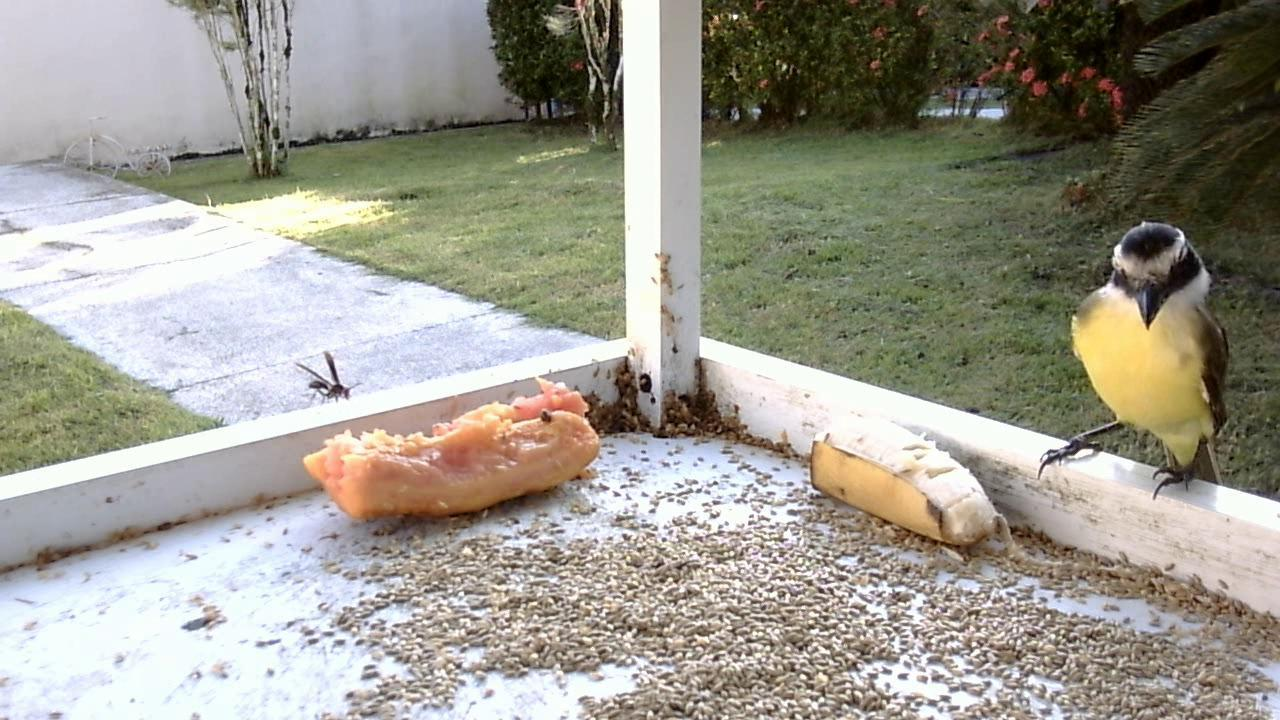bem_te_vi: (1024, 209, 1245, 515)
